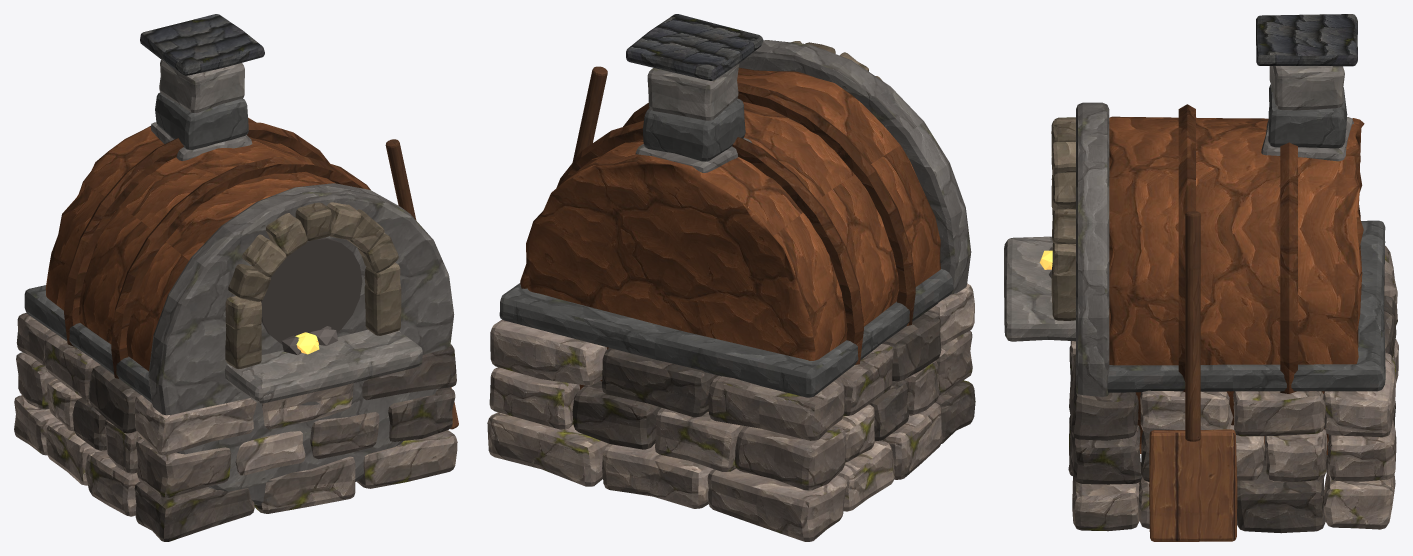
The model's file is stone_oven.glb.
3 views of the same model, side by side, from view 1: azimuth 30°, elevation 25°; view 2: azimuth 150°, elevation 25°; view 3: azimuth 270°, elevation 25° (orthographic). The views are drawn at different scales.
Visible parts, largest first — view 1: model; view 2: model; view 3: model.
Boxes of the visible parts, x1=… form: model: x1=14, y1=14, x2=458, y2=541; model: x1=487, y1=14, x2=975, y2=541; model: x1=1004, y1=14, x2=1398, y2=541.
Bounding box in the file's own units: 1.27 × 1.4 × 1.18.
21 materials, 15 textured.
